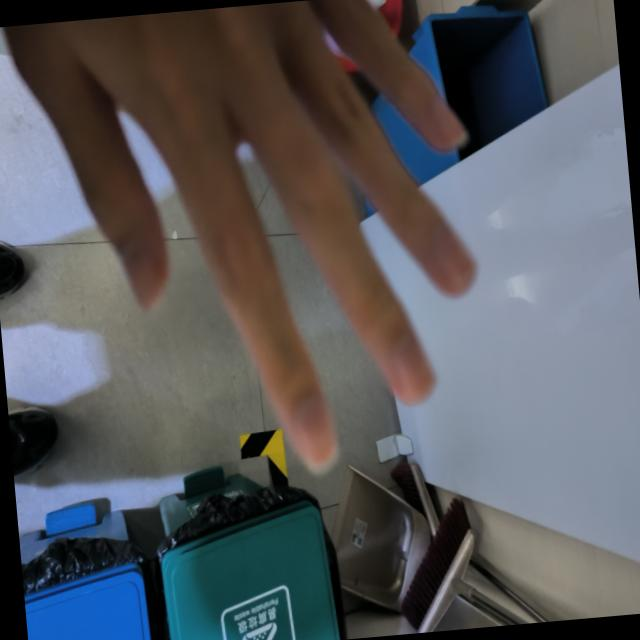Nail: (391, 334, 435, 402), (117, 243, 160, 309), (297, 394, 334, 469), (432, 224, 472, 288), (433, 98, 465, 143)
